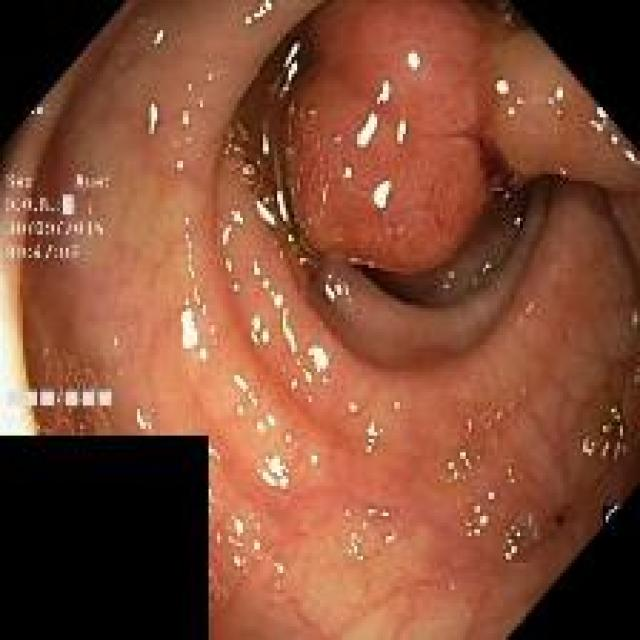Polyps: (270, 3, 640, 272)
